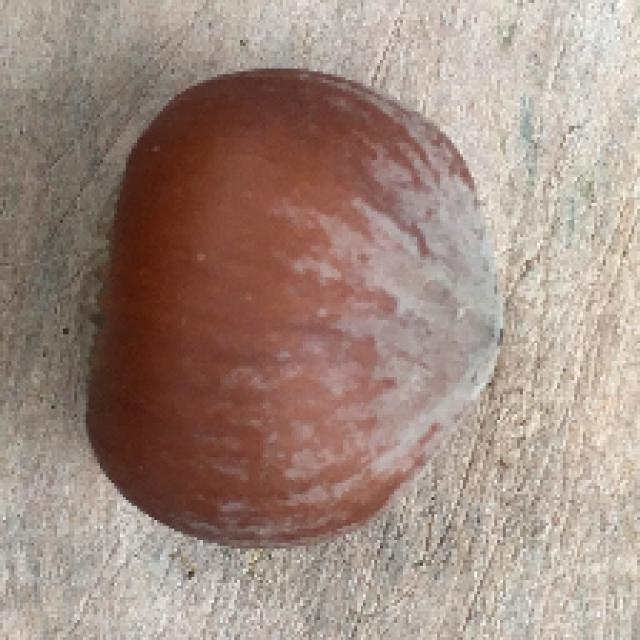qualityHazelnut: (70, 47, 518, 566)
